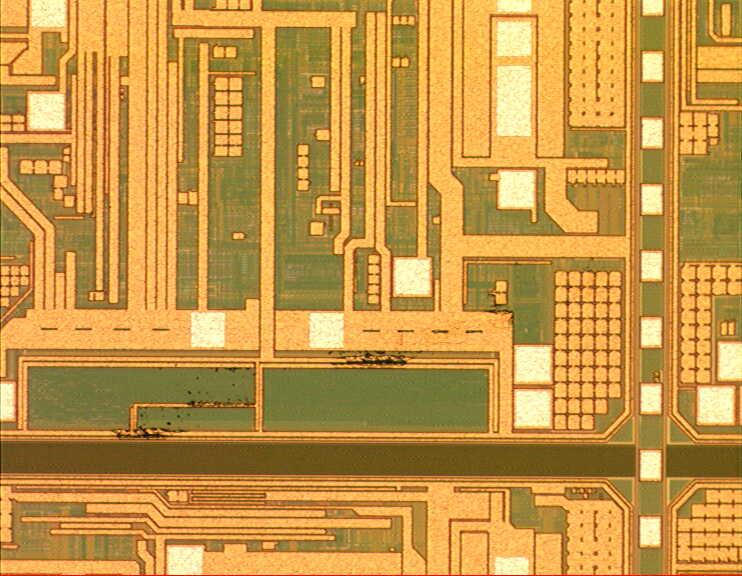SCRATCH: (110, 278, 523, 447)
